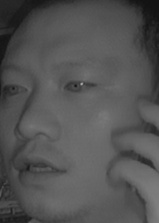eye: (61, 75, 98, 97), (1, 79, 30, 99)
mouth: (8, 146, 70, 188)
